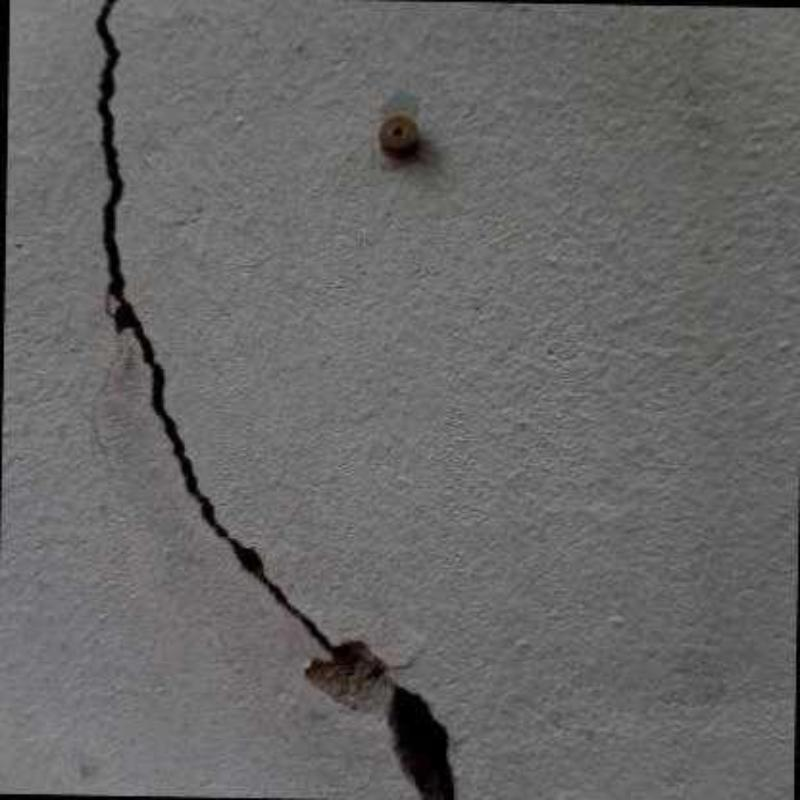crack: (89, 0, 458, 800)
